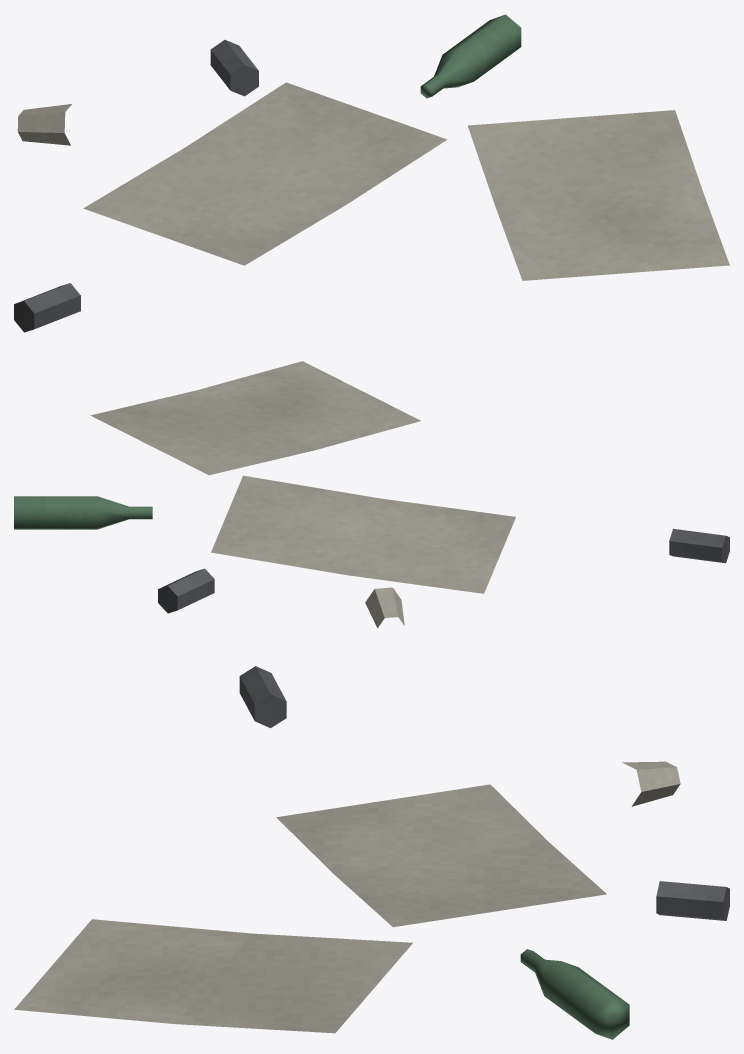
File: park_litter.glb
3 renders of one model, top to bottom at view 1: azimuth 30°, elevation 25°; view 2: azimuth 150°, elevation 25°; view 3: azimuth 270°, elevation 25°, orthographic. The views are drawn at different scales.
Visible parts, largest first — view 1: litter; view 2: litter; view 3: litter.
Boxes of the visible parts, bbox=[...] form: litter: bbox=[14, 14, 729, 332]; litter: bbox=[14, 361, 729, 627]; litter: bbox=[14, 666, 729, 1039].
Size of the model in its own units: 1.51 by 0.0945 by 1.26.
3 materials, 3 textured.
